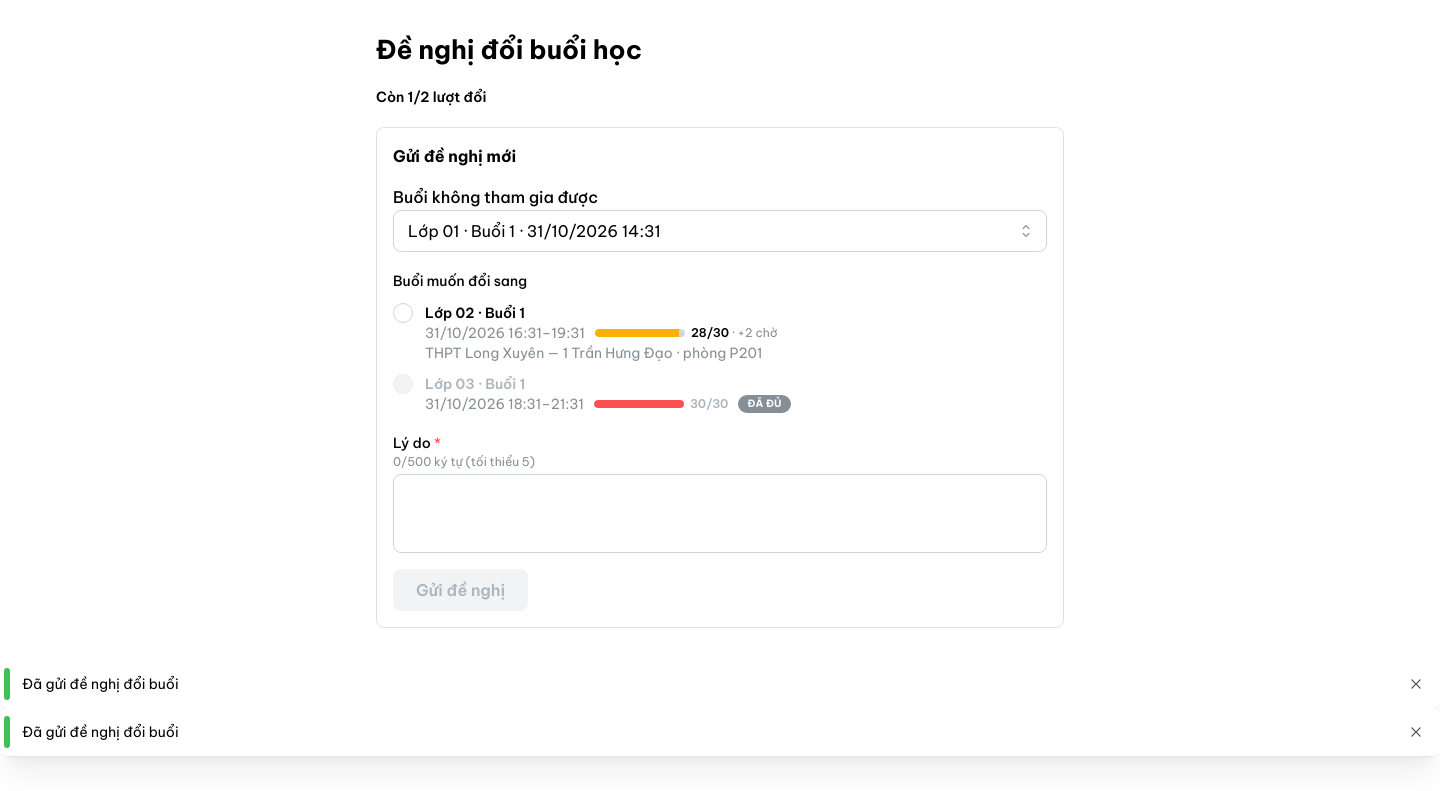
it: Trang đề nghị đổi buổi (học viên) › lỗi 409 từ máy chủ hiện đúng thông điệp
Click the radio button labelled "Lớp 02" at (403, 313), box 393,303 -> 413,323
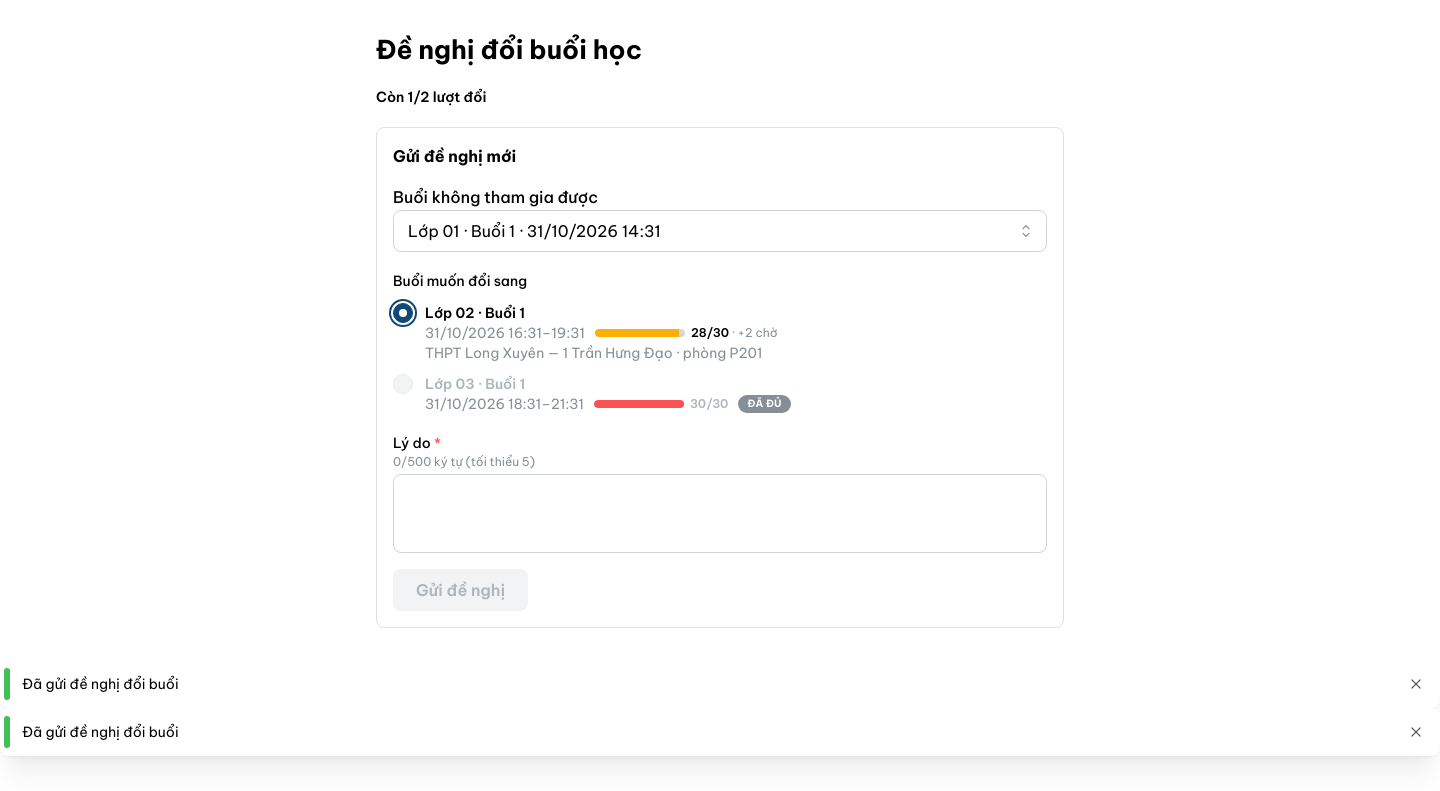
Type "Bận việc gia đình" into the text box labelled "Lý do *" at (720, 514), box 393,474 -> 1047,554
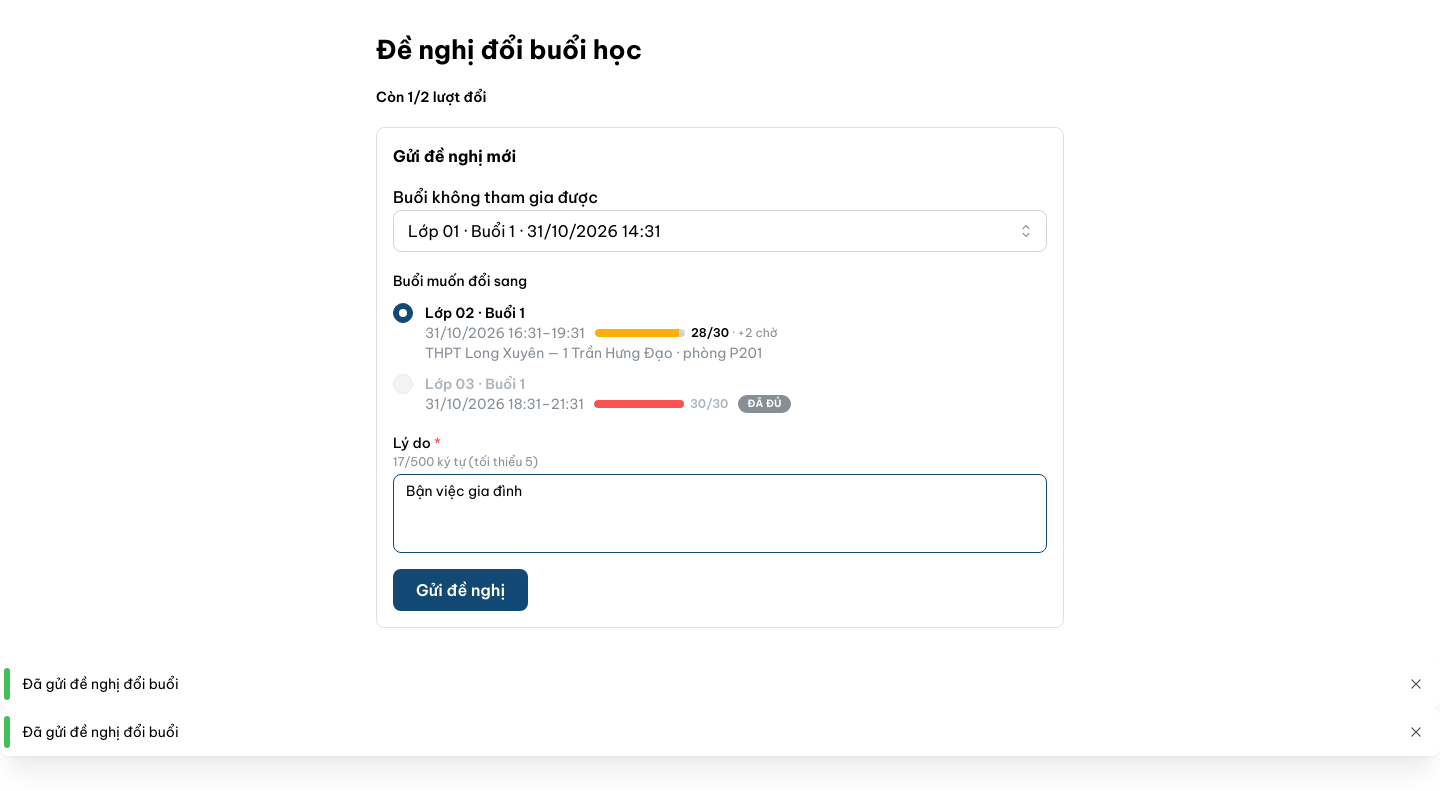
Click the button "Gửi đề nghị" at (461, 590), box 393,570 -> 528,612
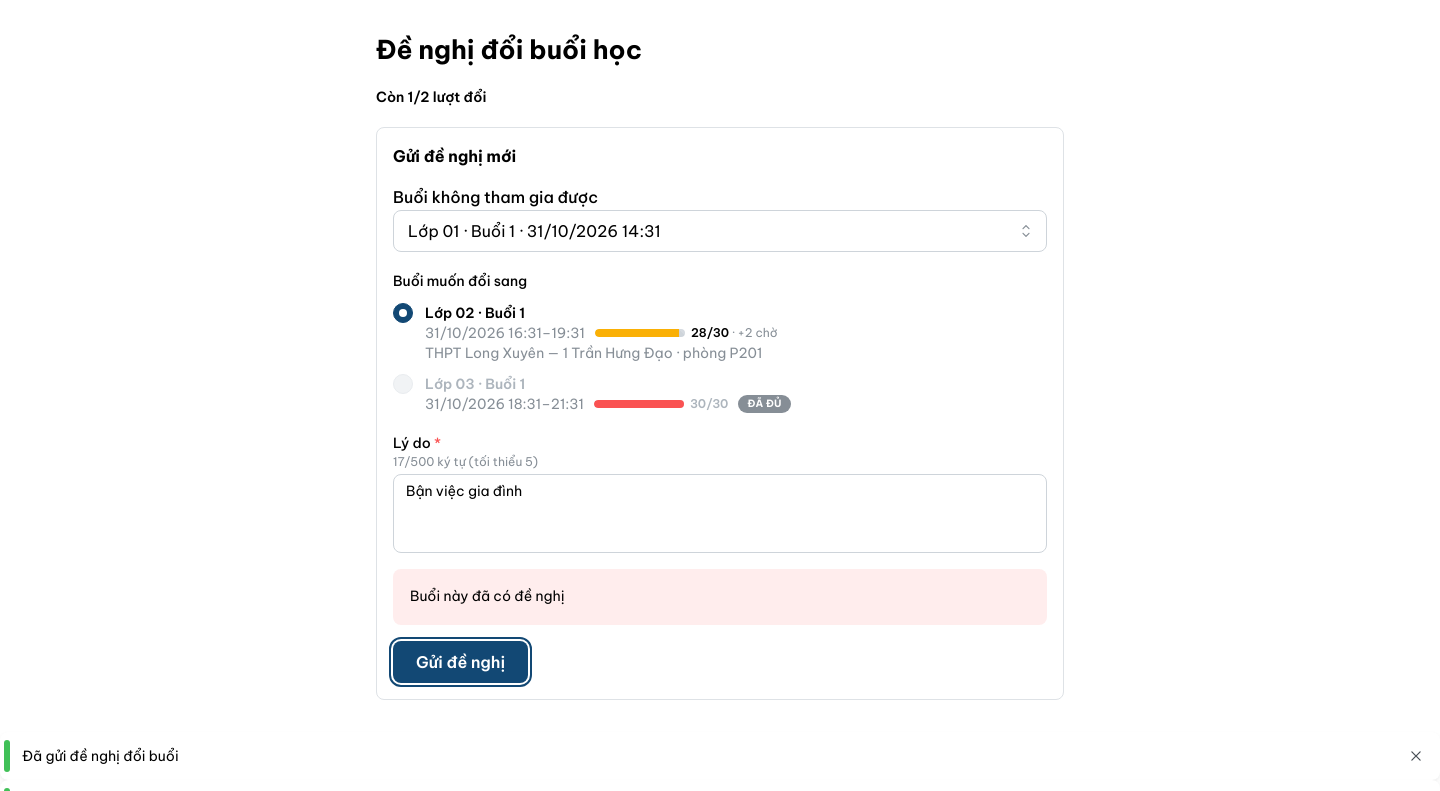
Check: the text "Buổi này đã có đề nghị" is shown, box 410,588 -> 565,606
